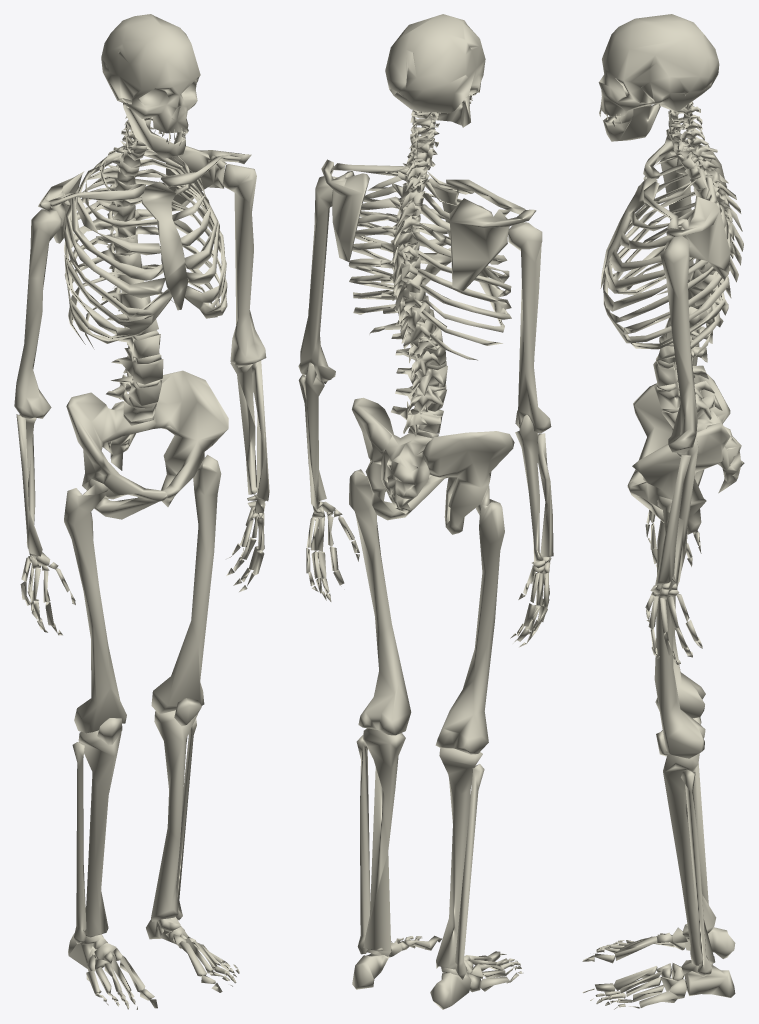
The model's file is skeletonA.glb.
The picture shows the model from 3 angles, left to right: view 1: azimuth 30°, elevation 25°; view 2: azimuth 150°, elevation 25°; view 3: azimuth 270°, elevation 25°; orthographic projection.
Visible parts, largest first — view 1: model; view 2: model; view 3: model.
Part boxes in pixels (bbox=[...]): model: bbox=[14, 14, 269, 1009]; model: bbox=[298, 14, 553, 1009]; model: bbox=[582, 14, 744, 1009].
Size of the model in its own units: 0.4734 by 1.75 by 0.2684.
